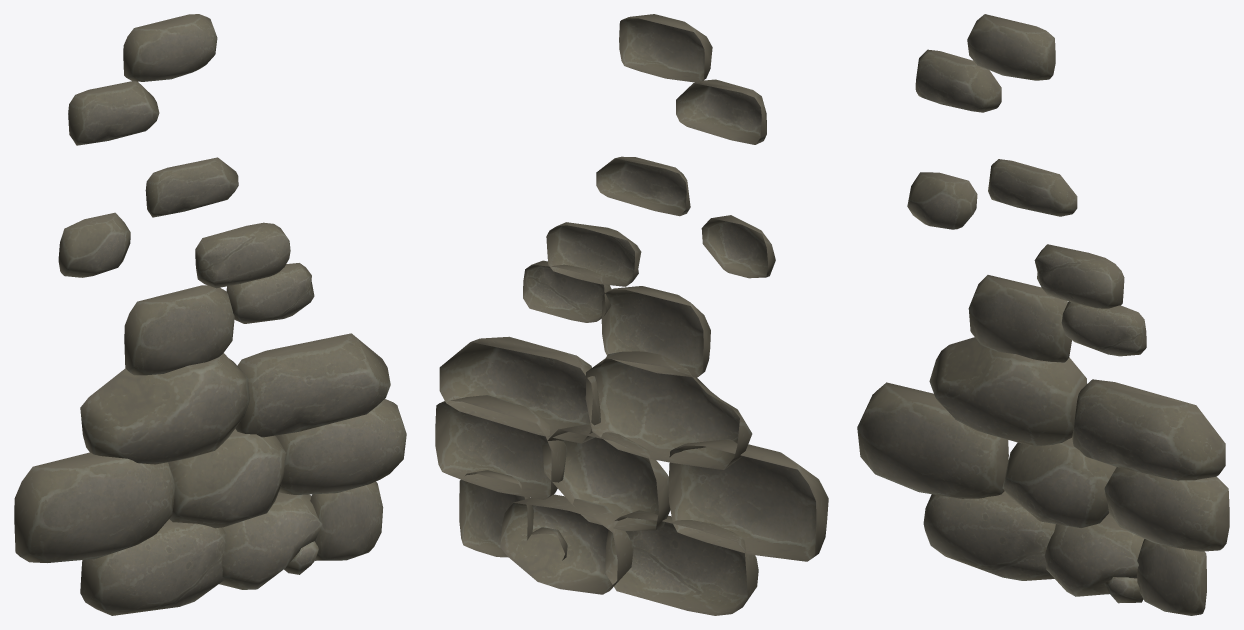
The model's file is MSH_fwOF_Ruins_Wall_Bricks_04.fbx.
3 renders of one model, left to right at view 1: azimuth 30°, elevation 25°; view 2: azimuth 150°, elevation 25°; view 3: azimuth 330°, elevation 25°, orthographic. The views are drawn at different scales.
Visible parts, largest first — view 1: MSH_fwOF_Ruins_Wall_Bricks_04; view 2: MSH_fwOF_Ruins_Wall_Bricks_04; view 3: MSH_fwOF_Ruins_Wall_Bricks_04.
Part boxes in pixels (bbox=[...]): MSH_fwOF_Ruins_Wall_Bricks_04: bbox=[14, 14, 406, 615]; MSH_fwOF_Ruins_Wall_Bricks_04: bbox=[435, 14, 828, 615]; MSH_fwOF_Ruins_Wall_Bricks_04: bbox=[857, 14, 1229, 615].
Bounding box in the file's own units: 2.54 × 3.71 × 0.3695.
